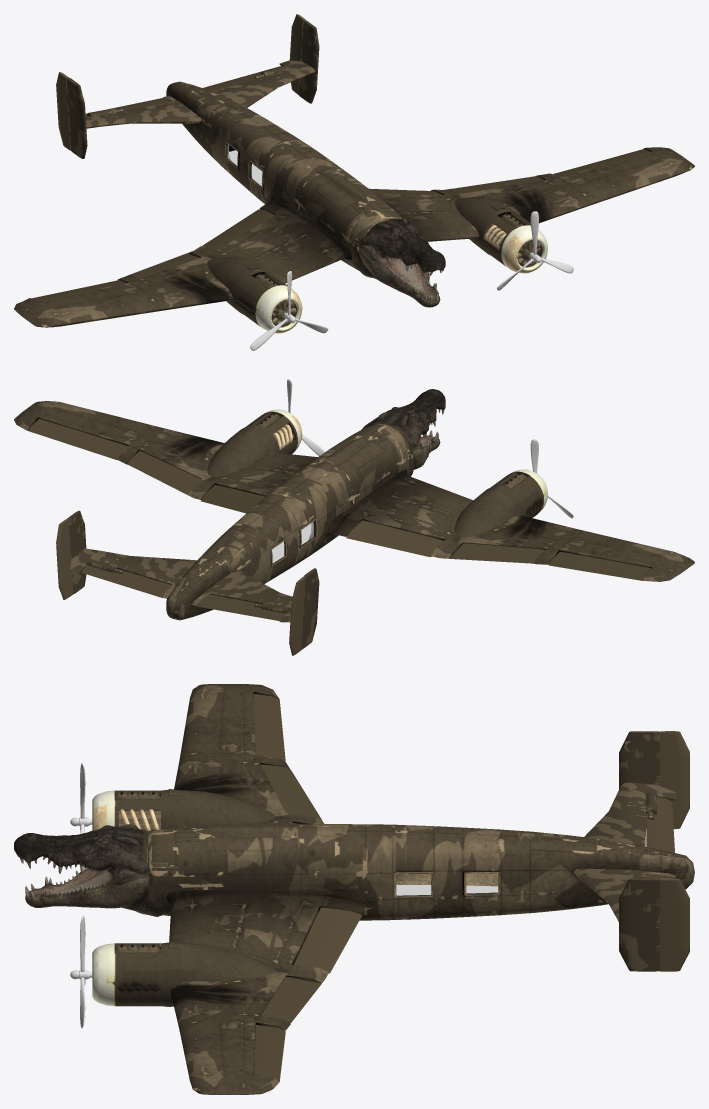
3 views of the same model, one above another, from view 1: azimuth 30°, elevation 25°; view 2: azimuth 150°, elevation 25°; view 3: azimuth 270°, elevation 25° (orthographic). The views are drawn at different scales.
Parts seen in each view (by area): view 1: Cube.004_Fusil.001_0; view 2: Cube.004_Fusil.001_0; view 3: Cube.004_Fusil.001_0.
Boxes of the visible parts, bbox=[...] form: Cube.004_Fusil.001_0: bbox=[14, 14, 694, 350]; Cube.004_Fusil.001_0: bbox=[14, 379, 694, 655]; Cube.004_Fusil.001_0: bbox=[14, 684, 694, 1094].
Bounding box in the file's own units: 4753 × 675 × 3335.
